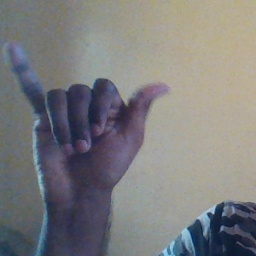J: (5, 38, 171, 185)
